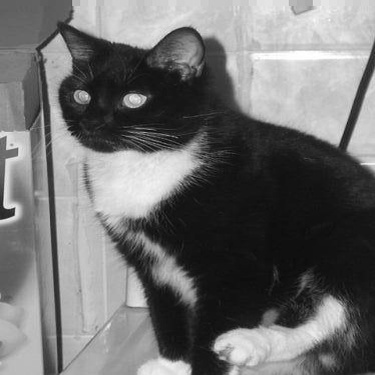cat: (38, 13, 364, 365)
